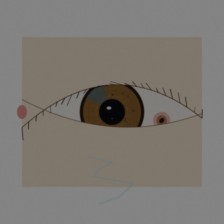foreign_body_visible: (148, 109, 176, 132)
